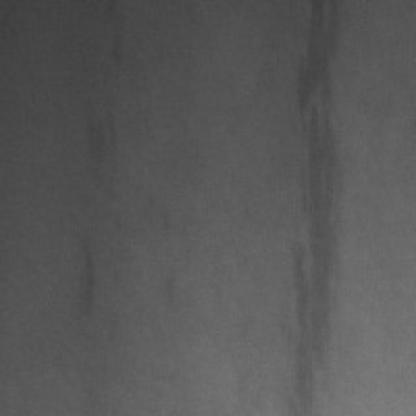inclusion: (280, 0, 353, 412), (77, 106, 121, 177), (66, 237, 104, 314)
